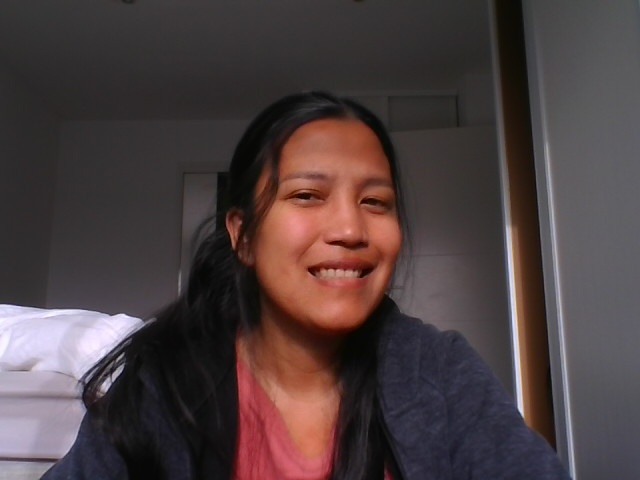face: (225, 93, 402, 333)
